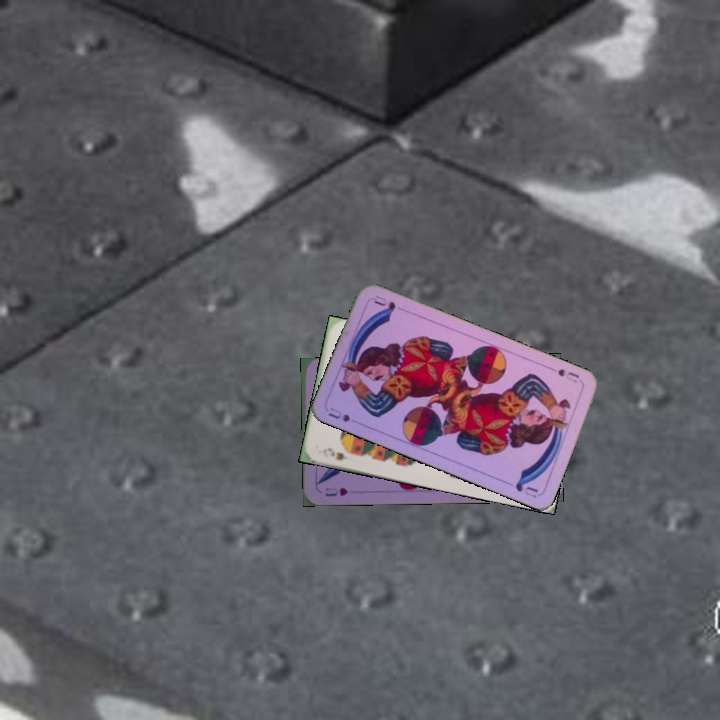HU: (321, 484, 350, 499)
S9: (319, 444, 350, 463)
SU: (324, 404, 364, 428), (554, 365, 584, 386)
